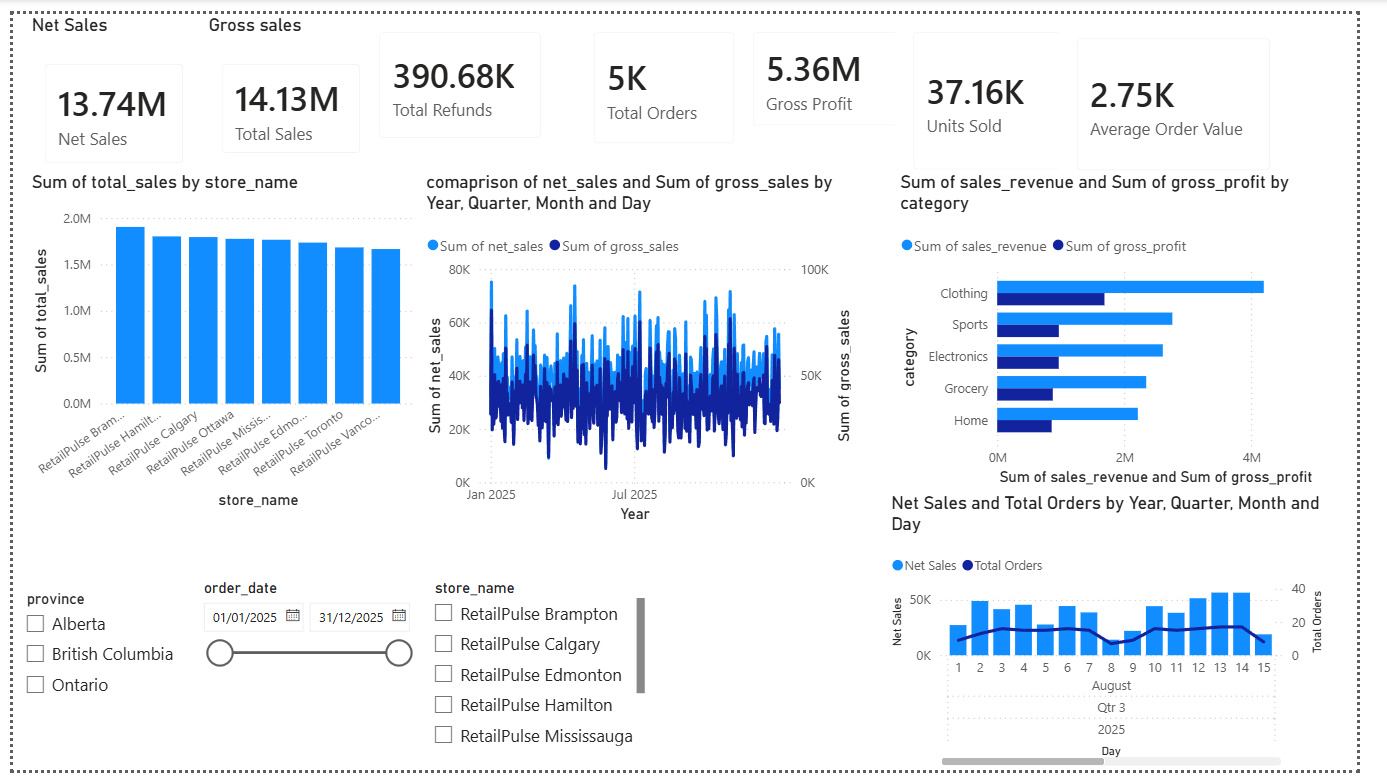

What the dashboard file says about the page in this screenshot:
{"tool":"powerbi","page":{"name":"overview","canvas":[1280,720],"ordinal":0},"visuals":[{"type":"cardVisual","title":"Net Sales","fields":{"Data":["public analytics_customer_performance.Net Sales"]},"box":[13.3,0,166.7,160],"z":0},{"type":"cardVisual","title":"Gross sales","fields":{"Data":["public analytics_customer_performance.Total Sales"]},"box":[181.7,0,166.7,150],"z":1000},{"type":"cardVisual","fields":{"Data":["public analytics_daily_sales.Total Refunds"]},"box":[331.7,0,188.3,135],"z":2000},{"type":"cardVisual","fields":{"Data":["public analytics_daily_sales.Total Orders"]},"box":[535,0,168.3,140],"z":3000},{"type":"cardVisual","fields":{"Data":["public analytics_daily_sales.Gross Profit"]},"box":[686.7,0,186.7,123.3],"z":4000},{"type":"cardVisual","fields":{"Data":["public analytics_daily_sales.Units Sold"]},"box":[840,0,180,165],"z":5000},{"type":"cardVisual","fields":{"Data":["public analytics_daily_sales.Average Order Value"]},"box":[995,5,218.3,160],"z":6000},{"type":"columnChart","fields":{"Category":["public analytics_store_performance.store_name"],"Y":["Sum(public analytics_store_performance.total_sales)"]},"box":[13.3,150,375,325],"z":7000},{"type":"lineChart","title":"comaprison of net_sales and Sum of gross_sales by Year, Quarter, Month and Day","fields":{"Y":["Sum(public analytics_daily_sales.net_sales)"],"Category":["public analytics_daily_sales.order_date.Variation.Date Hierarchy.Year","public analytics_daily_sales.order_date.Variation.Date Hierarchy.Quarter","public analytics_daily_sales.order_date.Variation.Date Hierarchy.Month","public analytics_daily_sales.order_date.Variation.Date Hierarchy.Day"],"Y2":["Sum(public analytics_daily_sales.gross_sales)"]},"box":[388.3,150,414,339],"z":8000},{"type":"clusteredBarChart","fields":{"Category":["public analytics_product_performance.category"],"Y":["Sum(public analytics_product_performance.sales_revenue)","Sum(public analytics_product_performance.gross_profit)"]},"box":[840,150,413.3,303.3],"z":9000},{"type":"lineClusteredColumnComboChart","fields":{"Category":["public analytics_daily_sales.order_date.Variation.Date Hierarchy.Year","public analytics_daily_sales.order_date.Variation.Date Hierarchy.Quarter","public analytics_daily_sales.order_date.Variation.Date Hierarchy.Month","public analytics_daily_sales.order_date.Variation.Date Hierarchy.Day"],"Y":["public analytics_daily_sales.Net Sales"],"Y2":["public analytics_daily_sales.Total Orders"]},"box":[831.7,455,421,265],"z":10000},{"type":"slicer","fields":{"Values":["public analytics_daily_sales.province"]},"box":[13.3,523.3,375,130],"z":10001}]}

Visuals, with their boxes in screenshot pixels (x1, y1, x2, y2), scaled from the page's 1280x720 canvas onto the 1387x778 screenshot:
"Net Sales" cardVisual: crop(14, 0, 195, 173)
"Gross sales" cardVisual: crop(197, 0, 378, 162)
cardVisual - public analytics_daily_sales.Total Refunds: crop(359, 0, 563, 146)
cardVisual - public analytics_daily_sales.Total Orders: crop(580, 0, 762, 151)
cardVisual - public analytics_daily_sales.Gross Profit: crop(744, 0, 946, 133)
cardVisual - public analytics_daily_sales.Units Sold: crop(910, 0, 1105, 178)
cardVisual - public analytics_daily_sales.Average Order Value: crop(1078, 5, 1315, 178)
columnChart - public analytics_store_performance.store_name x Sum(public analytics_store_performance.total_sales): crop(14, 162, 421, 513)
"comaprison of net_sales and Sum of gross_sales by Year, Quarter, Month and Day" lineChart: crop(421, 162, 869, 528)
clusteredBarChart - public analytics_product_performance.category x Sum(public analytics_product_performance.sales_revenue): crop(910, 162, 1358, 490)
lineClusteredColumnComboChart - public analytics_daily_sales.order_date.Variation.Date Hierarchy.Year x public analytics_daily_sales.order_date.Variation.Date Hierarchy.Quarter: crop(901, 492, 1357, 777)
slicer - public analytics_daily_sales.province: crop(14, 565, 421, 706)
